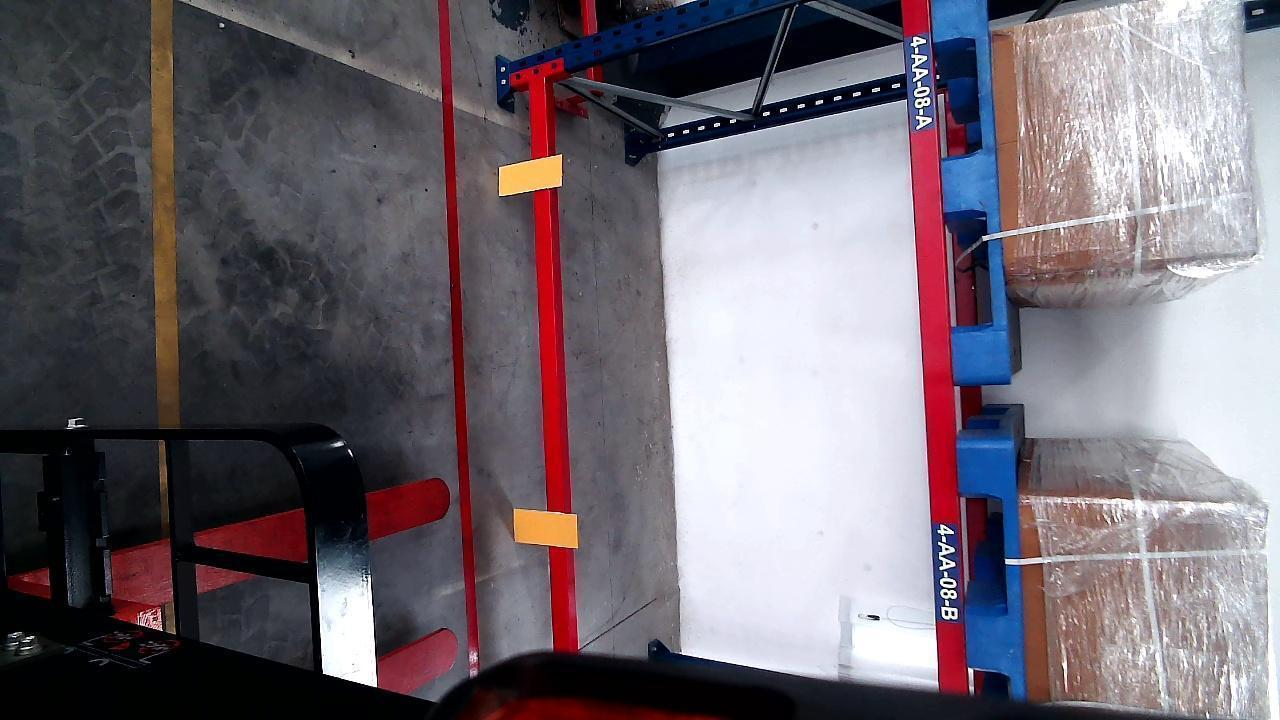red_line: (441, 0, 483, 677)
yellow_line: (151, 1, 180, 419)
